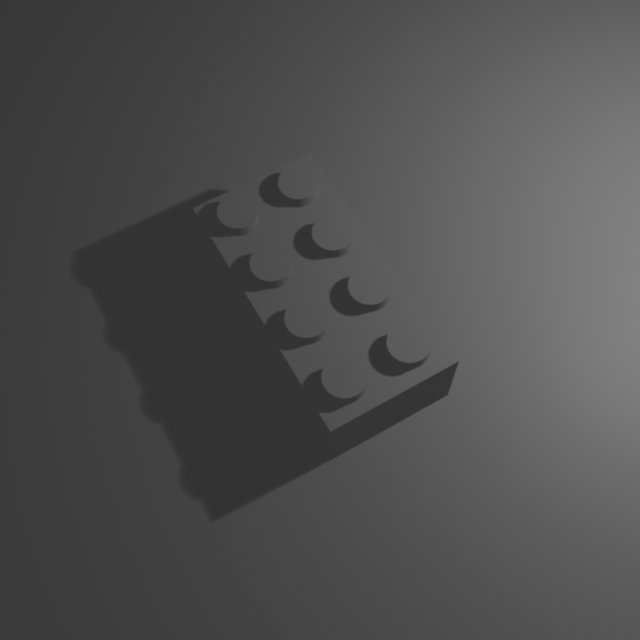lego_2x4: (191, 145, 461, 461)
